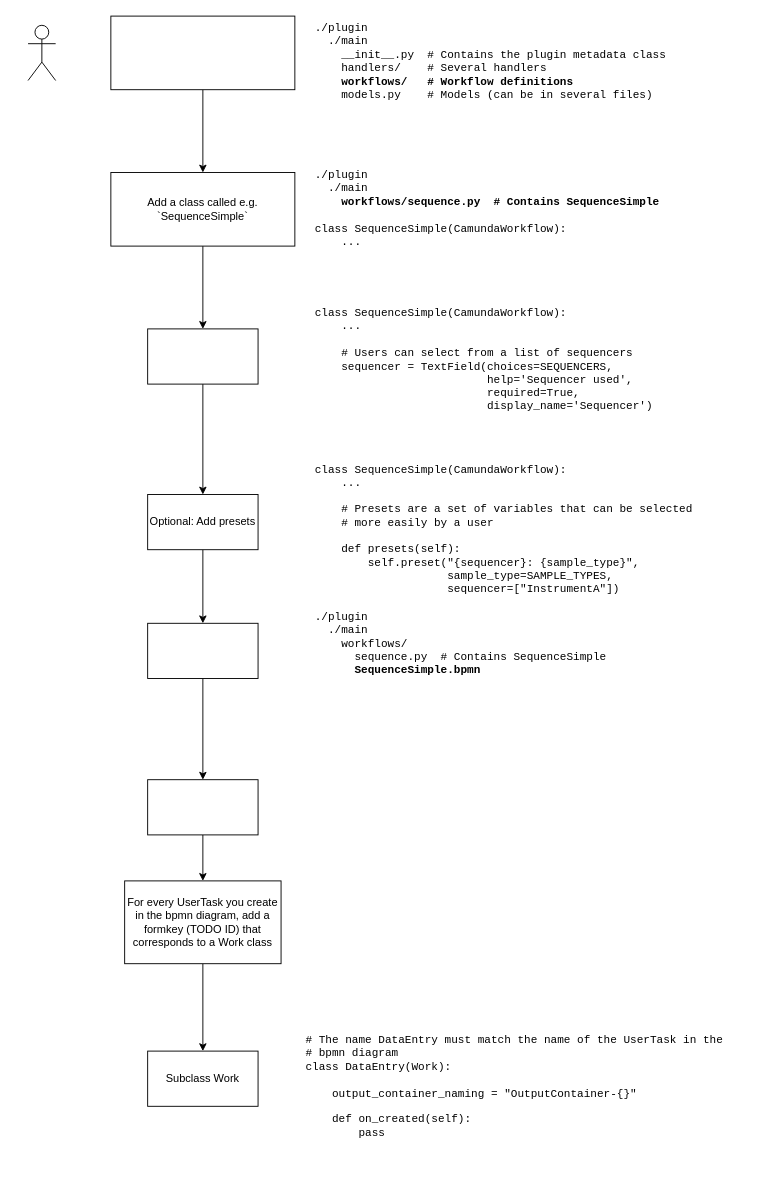
Image size: 780x1182. Some labels were removed from this diagram. The shapes that lost their labels are listed below. From the top down, each one's box as (x1, y1, x2, y2) in pixels, then its label:
(27, 24, 56, 80): Plugin dev
(110, 15, 295, 90): Open your plugin
(147, 328, 258, 384): Add workflow variables as class members
(147, 622, 258, 678): Create a .bpmn diagram with the same name as the class
(147, 779, 258, 835): Add a flow in the diagram, optionally with "UserTask" elements
